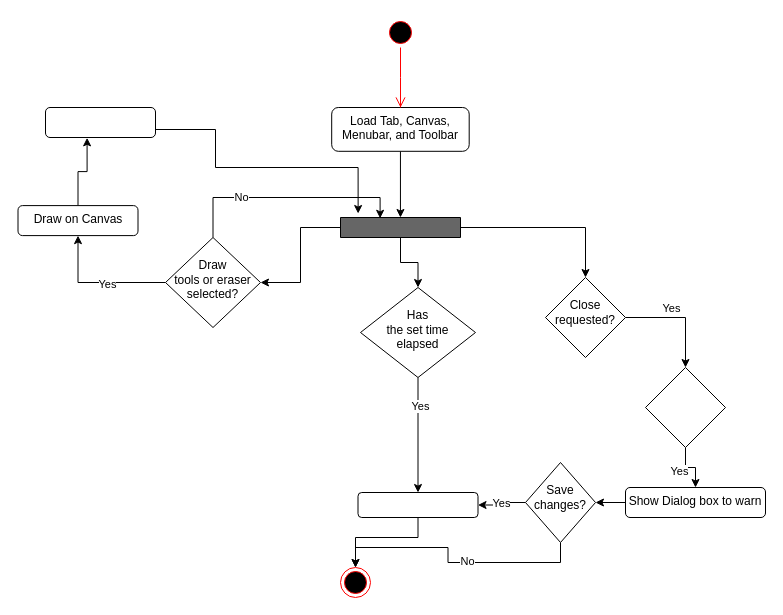
Image size: 783x615. Some labels were removed from this diagram. The shapes that lost their labels are listed below. From the top down, each one's box as (x1, y1, x2, y2) in pixels, then its label:
(44, 106, 156, 138): Update Stack
(644, 366, 726, 448): Unsaved Changes?
(357, 492, 478, 518): Save the image
